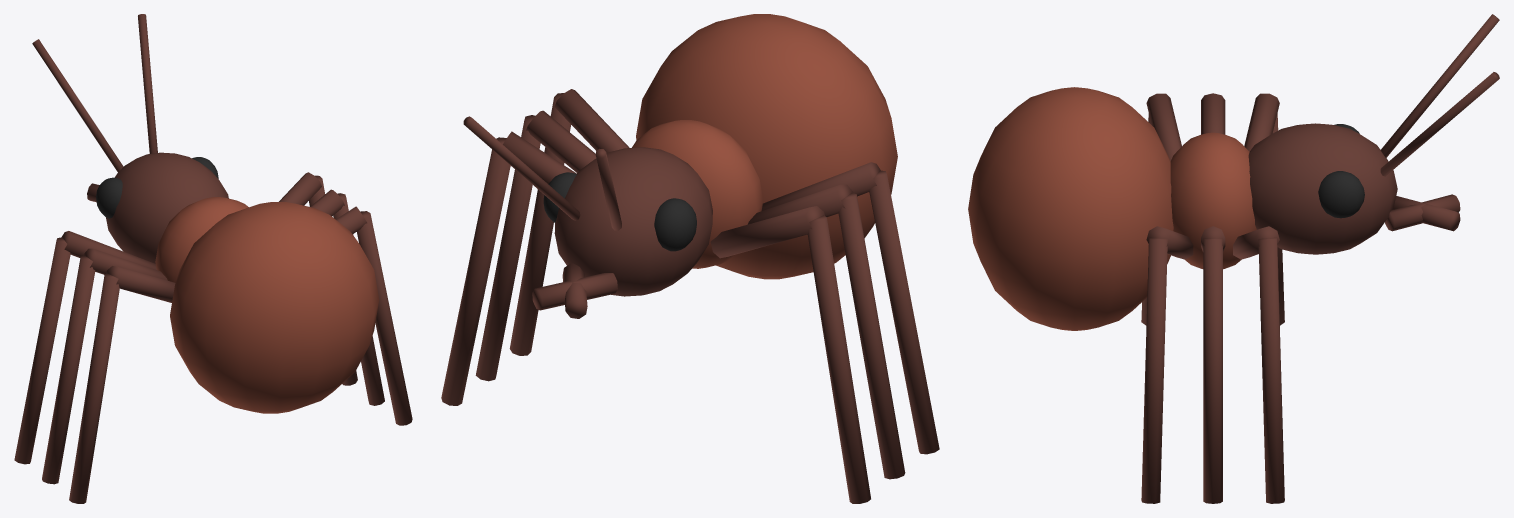
Rendered from ant.glb.
3 views of the same model, side by side, from view 1: azimuth 30°, elevation 25°; view 2: azimuth 150°, elevation 25°; view 3: azimuth 270°, elevation 25° (orthographic). The views are drawn at different scales.
Parts seen in each view (by area): view 1: abdomen_mesh, head_mesh, legL3_lo_mesh, legL2_lo_mesh, legL1_lo_mesh, legR3_lo_mesh, thorax_mesh, antennaL_mesh, legL3_mesh, antennaR_mesh, legR2_lo_mesh, legL1_mesh (+5 smaller); view 2: abdomen_mesh, head_mesh, thorax_mesh, legL1_lo_mesh, legL2_lo_mesh, legL3_lo_mesh, legR1_lo_mesh, legR2_lo_mesh, legR3_lo_mesh, legL1_mesh, legR3_mesh, legR2_mesh (+9 smaller); view 3: abdomen_mesh, head_mesh, thorax_mesh, legR2_lo_mesh, legR3_lo_mesh, legR1_lo_mesh, antennaL_mesh, eyeR, antennaR_mesh, legL3_mesh, legL1_mesh, mandibleR_mesh (+4 smaller).
Part boxes in pixels (x1=…): abdomen_mesh: x1=170, y1=202, x2=379, y2=413; head_mesh: x1=106, y1=152, x2=228, y2=263; legL3_lo_mesh: x1=69, y1=273, x2=119, y2=503; legL2_lo_mesh: x1=42, y1=255, x2=95, y2=484; legL1_lo_mesh: x1=14, y1=237, x2=70, y2=464; legR3_lo_mesh: x1=357, y1=211, x2=412, y2=425; thorax_mesh: x1=155, y1=197, x2=248, y2=282; antennaL_mesh: x1=32, y1=39, x2=123, y2=172; legL3_mesh: x1=106, y1=266, x2=175, y2=302; antennaR_mesh: x1=138, y1=14, x2=157, y2=153; legR2_lo_mesh: x1=333, y1=193, x2=384, y2=405; legL1_mesh: x1=61, y1=231, x2=156, y2=269; abdomen_mesh: x1=636, y1=14, x2=897, y2=279; head_mesh: x1=554, y1=147, x2=712, y2=296; thorax_mesh: x1=632, y1=120, x2=763, y2=268; legL1_lo_mesh: x1=807, y1=215, x2=870, y2=503; legL2_lo_mesh: x1=838, y1=193, x2=905, y2=479; legL3_lo_mesh: x1=869, y1=170, x2=939, y2=454; legR1_lo_mesh: x1=441, y1=137, x2=510, y2=405; legR2_lo_mesh: x1=475, y1=115, x2=540, y2=381; legR3_lo_mesh: x1=509, y1=93, x2=571, y2=355; legL1_mesh: x1=710, y1=206, x2=824, y2=258; legR3_mesh: x1=554, y1=89, x2=629, y2=152; legR2_mesh: x1=526, y1=110, x2=596, y2=172; abdomen_mesh: x1=968, y1=87, x2=1173, y2=330; head_mesh: x1=1248, y1=123, x2=1397, y2=254; thorax_mesh: x1=1170, y1=132, x2=1256, y2=269; legR2_lo_mesh: x1=1203, y1=238, x2=1222, y2=503; legR3_lo_mesh: x1=1141, y1=237, x2=1167, y2=503; legR1_lo_mesh: x1=1258, y1=237, x2=1284, y2=503; antennaL_mesh: x1=1381, y1=14, x2=1499, y2=157; eyeR: x1=1318, y1=171, x2=1364, y2=218; antennaR_mesh: x1=1380, y1=72, x2=1499, y2=176; legL3_mesh: x1=1146, y1=93, x2=1181, y2=161; legL1_mesh: x1=1244, y1=93, x2=1279, y2=151; mandibleR_mesh: x1=1385, y1=194, x2=1460, y2=231.
Size of the model in its own units: 1.09 by 0.9942 by 1.3.
